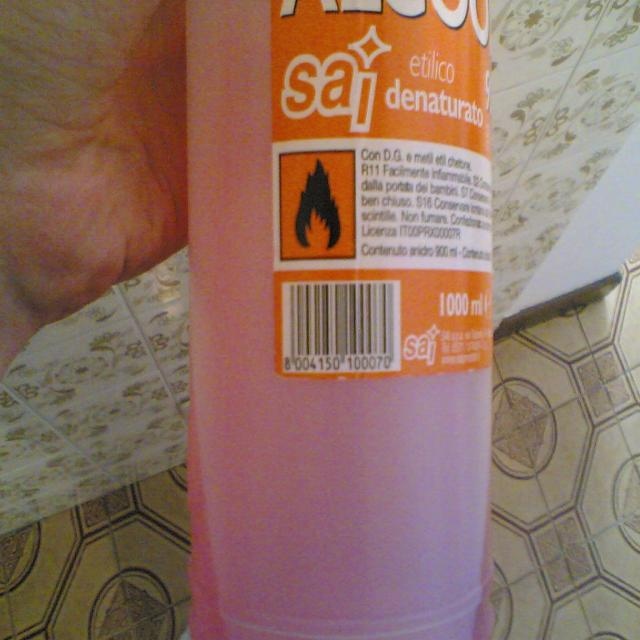barcode: (282, 282, 399, 372)
